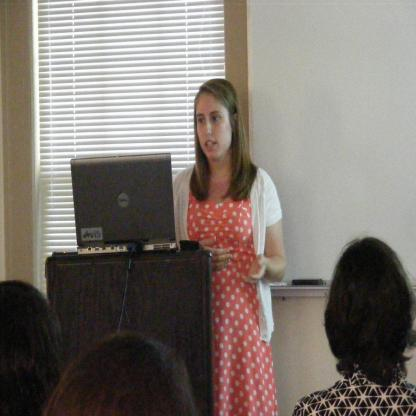board: (70, 152, 181, 253)
